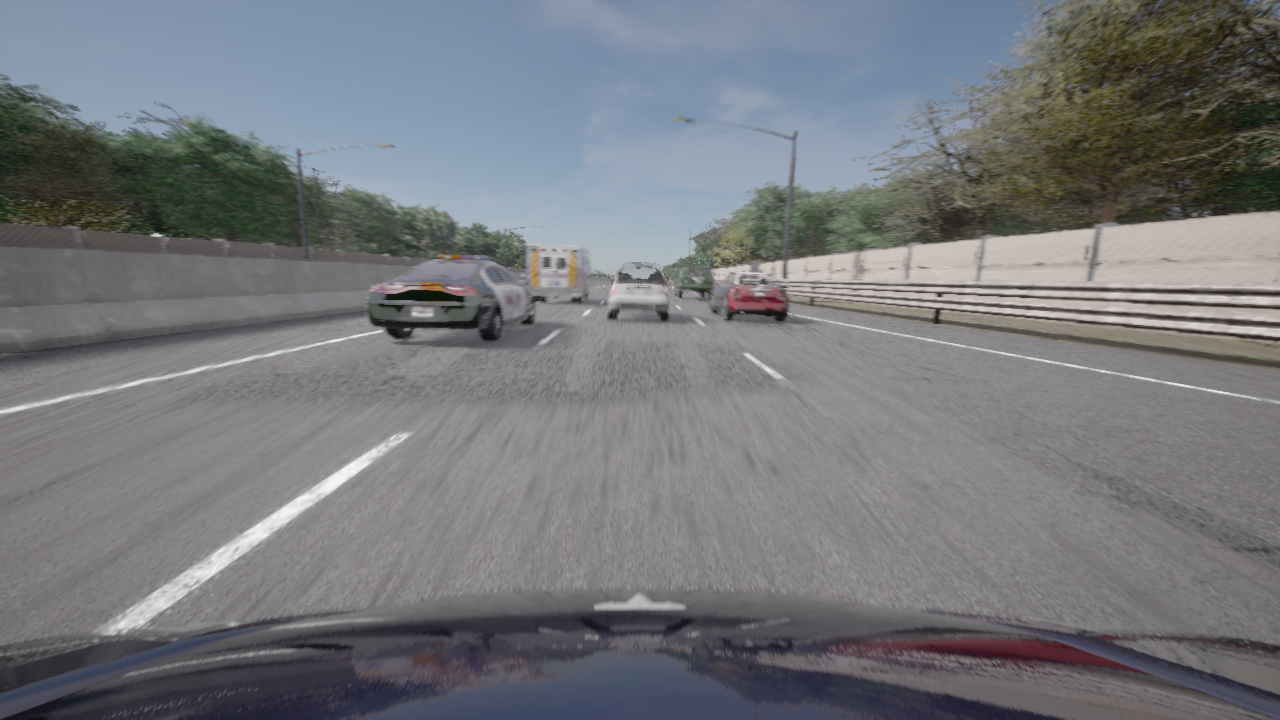cyclist: (0, 588, 1279, 719), (366, 256, 536, 340), (527, 244, 595, 303), (710, 272, 788, 321), (608, 264, 669, 321), (674, 266, 714, 299)
